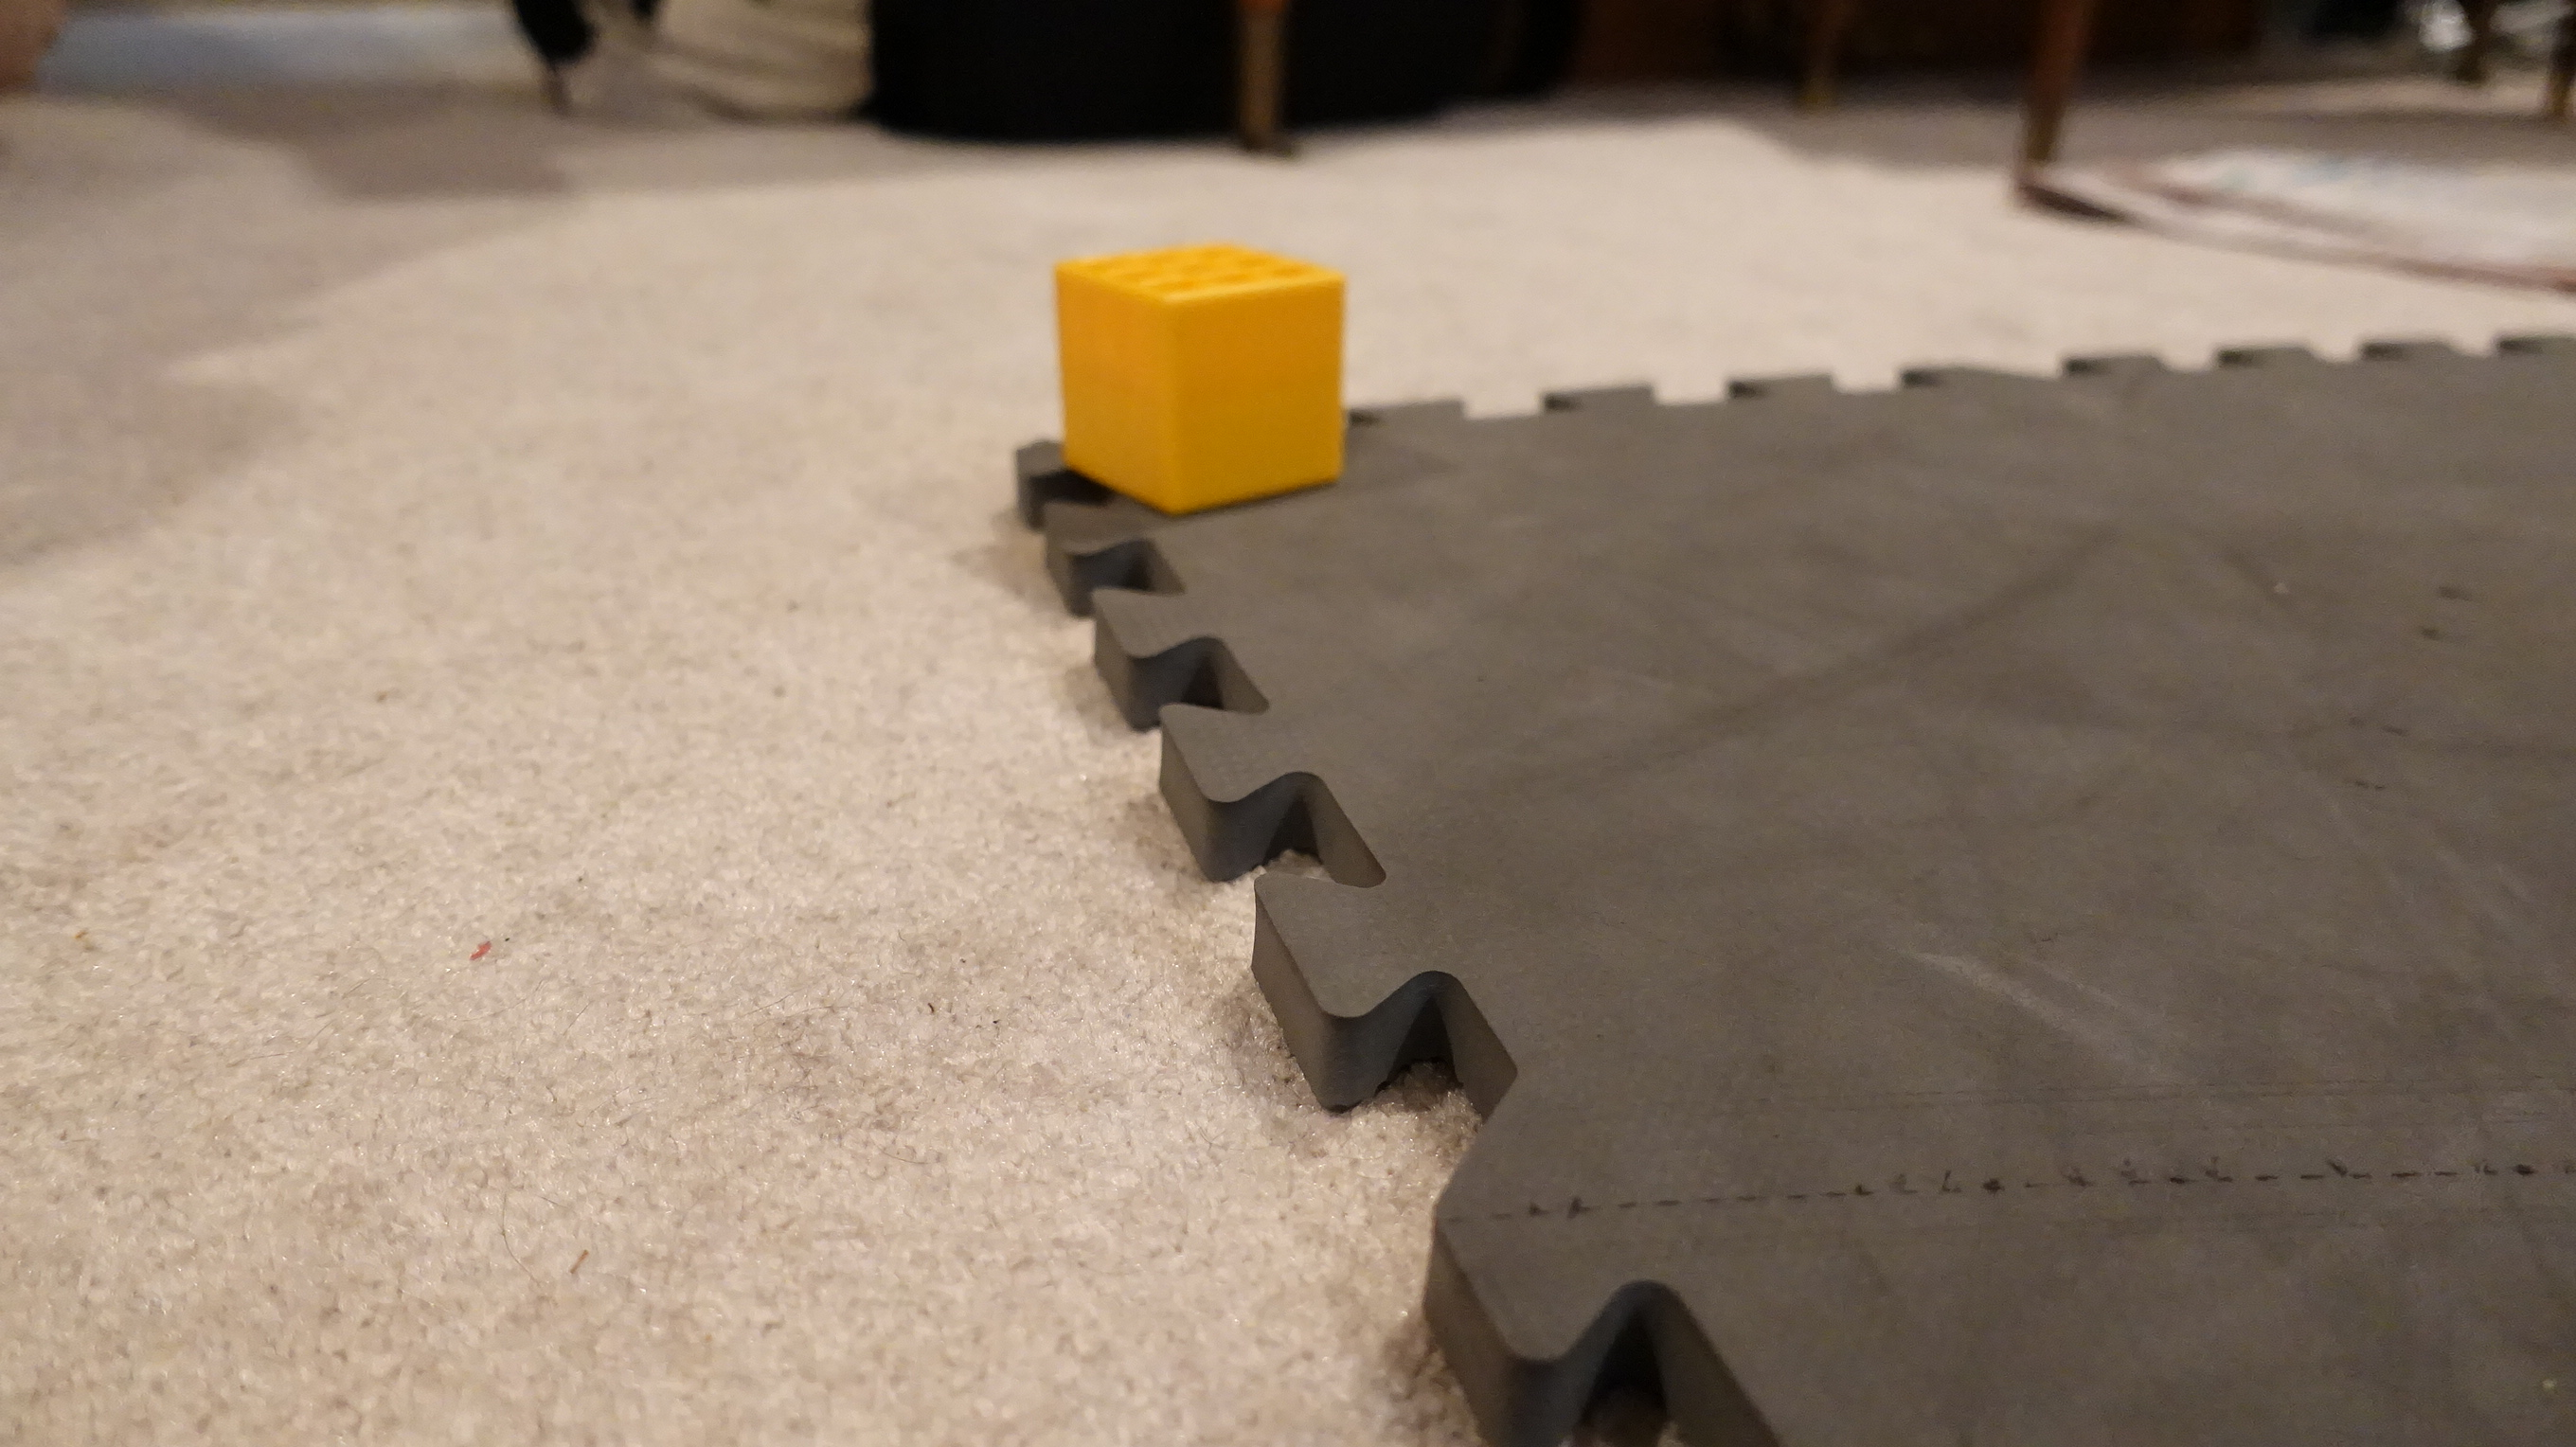gold: (1049, 244, 1359, 520)
